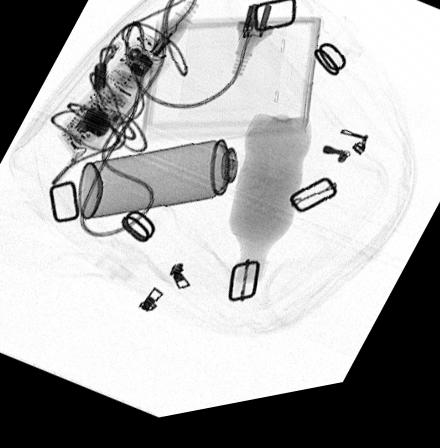Sprayer: (76, 145, 251, 224)
